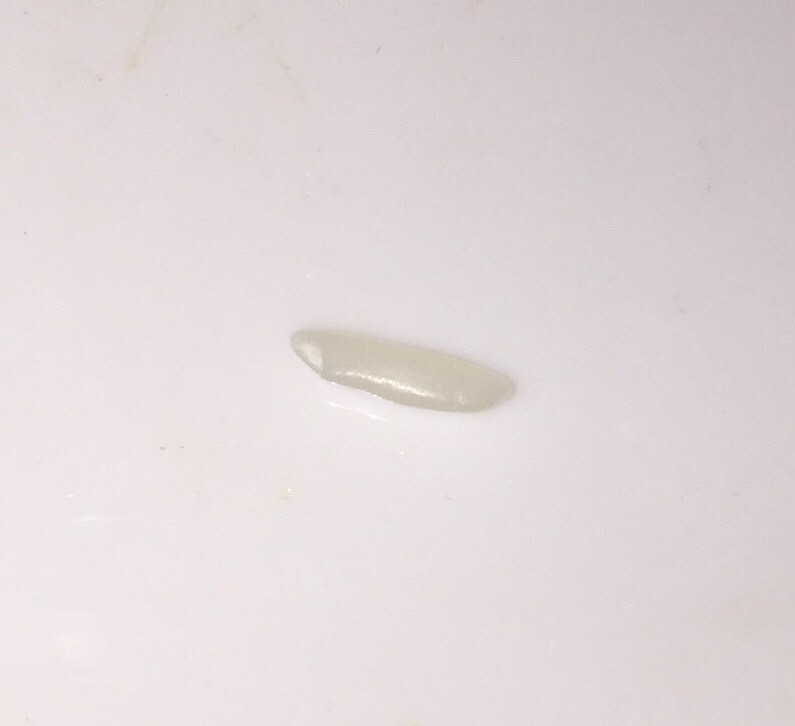Gao Ngoc Troi: (270, 314, 524, 425)
